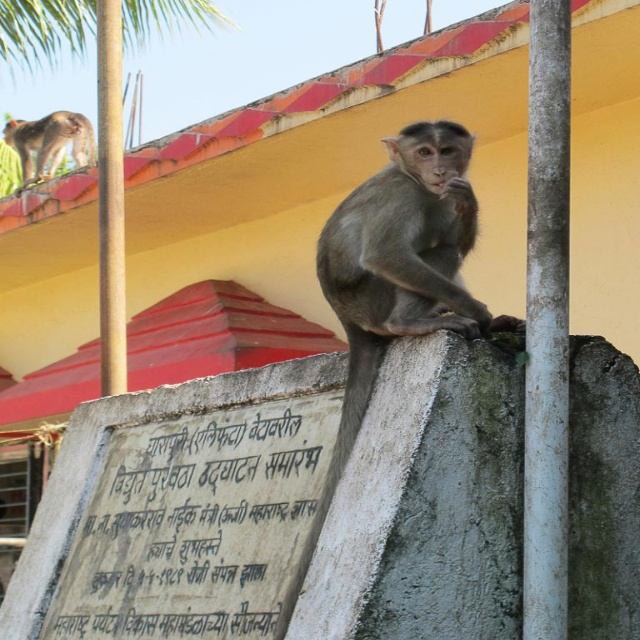Monkey: (276, 120, 495, 639)
